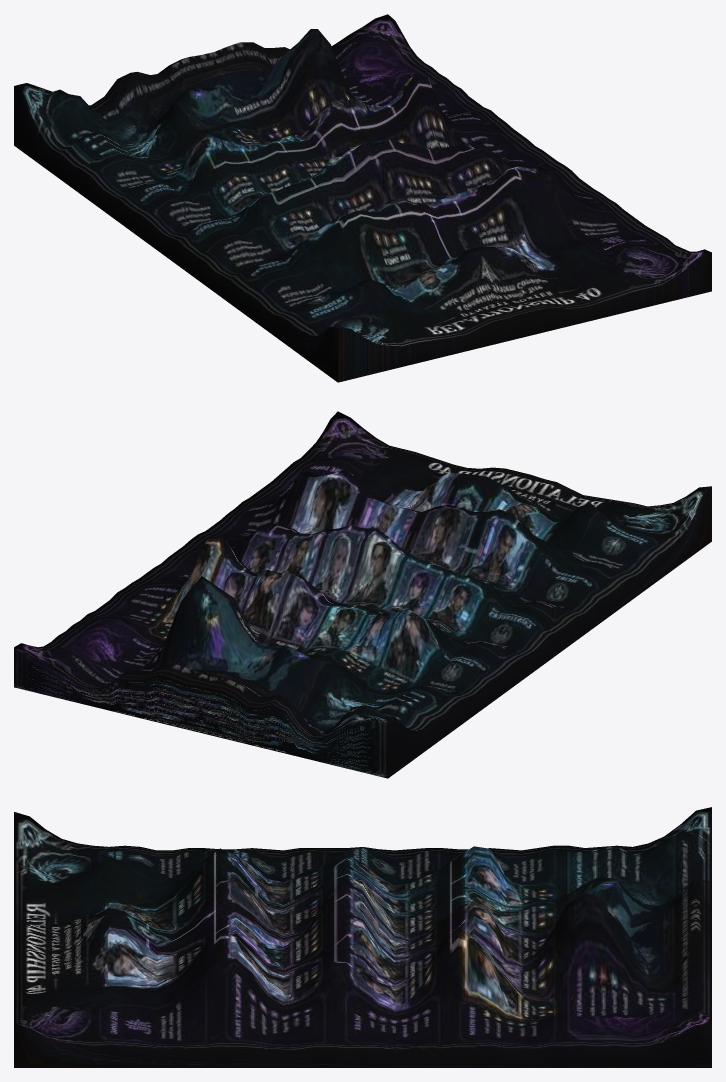
The model's file is RELATIONSHIP_40_Dynasty_Poster.glb.
3 renders of one model, top to bottom at view 1: azimuth 30°, elevation 25°; view 2: azimuth 150°, elevation 25°; view 3: azimuth 270°, elevation 25°, orthographic. The views are drawn at different scales.
Visible parts, largest first — view 1: RELATIONSHIP_40_Dynasty_Poster; view 2: RELATIONSHIP_40_Dynasty_Poster; view 3: RELATIONSHIP_40_Dynasty_Poster.
Part boxes in pixels (bbox=[...]): RELATIONSHIP_40_Dynasty_Poster: bbox=[14, 14, 711, 382]; RELATIONSHIP_40_Dynasty_Poster: bbox=[14, 411, 711, 778]; RELATIONSHIP_40_Dynasty_Poster: bbox=[14, 807, 711, 1067].
Bounding box in the file's own units: 2 × 0.51 × 3.
Materials: 1 (1 with a texture image).
